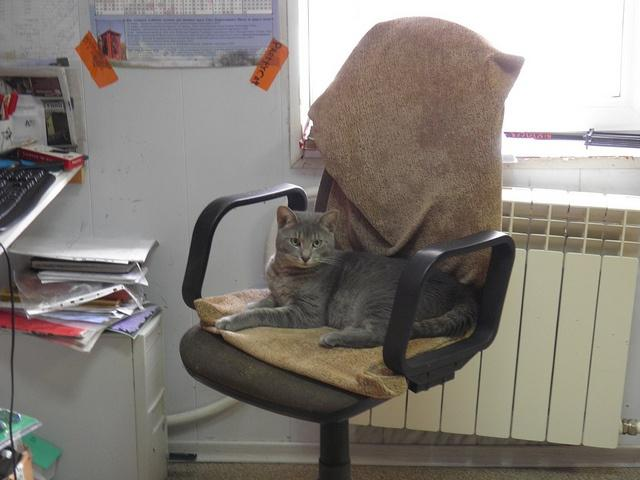Kursi: (177, 15, 515, 479)
